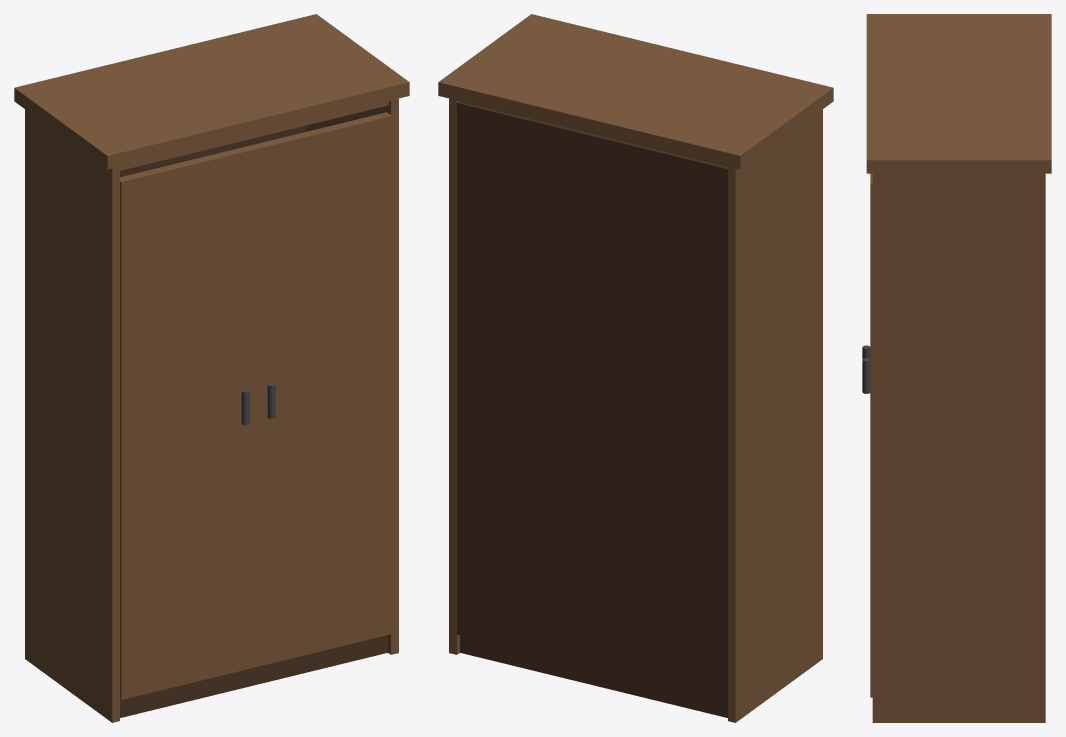
File: SM_P0_Wardrobe_A.obj
3 renders of one model, left to right at view 1: azimuth 30°, elevation 25°; view 2: azimuth 150°, elevation 25°; view 3: azimuth 270°, elevation 25°, orthographic.
Parts seen in each view (by area): view 1: door_r, door_l, side_l, cornice, plinth, side_r, top, back_panel; view 2: back_panel, side_l, cornice, plinth, side_r; view 3: side_r, cornice, door_r.
Boxes of the visible parts, x1,y1,x2,y2 form: door_r: (251,112,392,666); door_l: (120,145,256,699); side_l: (25,109,119,722); cornice: (14,14,409,169); plinth: (120,635,387,717); side_r: (305,98,398,654); top: (120,101,388,170); back_panel: (120,125,305,177); back_panel: (457,101,727,700); side_l: (728,109,822,722); cornice: (438,14,833,169); plinth: (460,635,727,717); side_r: (449,98,459,654); side_r: (872,173,1045,722); cornice: (866,14,1051,173); door_r: (870,173,872,697).
Size of the model in its own units: 1.16 by 2.1 by 0.634.
